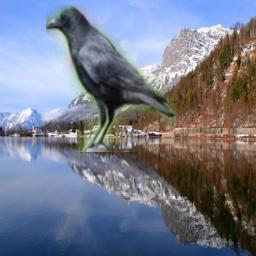Crow: (46, 5, 176, 152)
